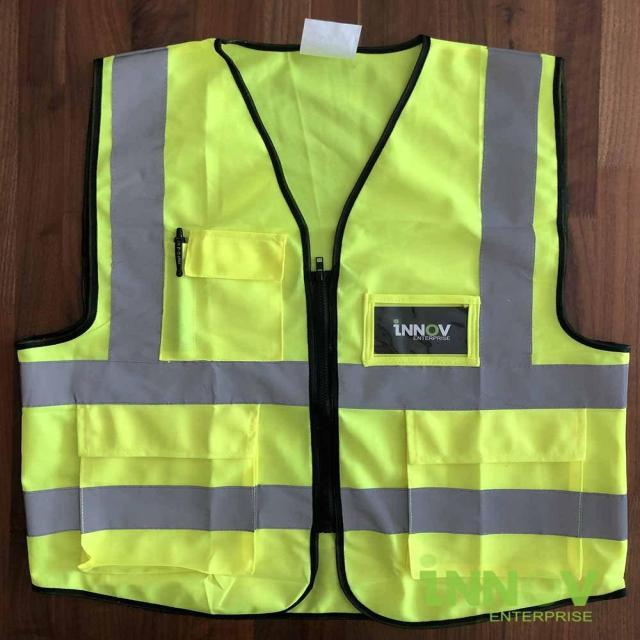Vest: (13, 28, 630, 625)
